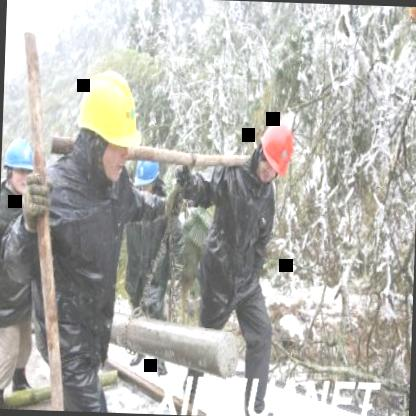helmet: (72, 64, 146, 186), (252, 110, 300, 192), (1, 139, 36, 194), (134, 148, 164, 198)
